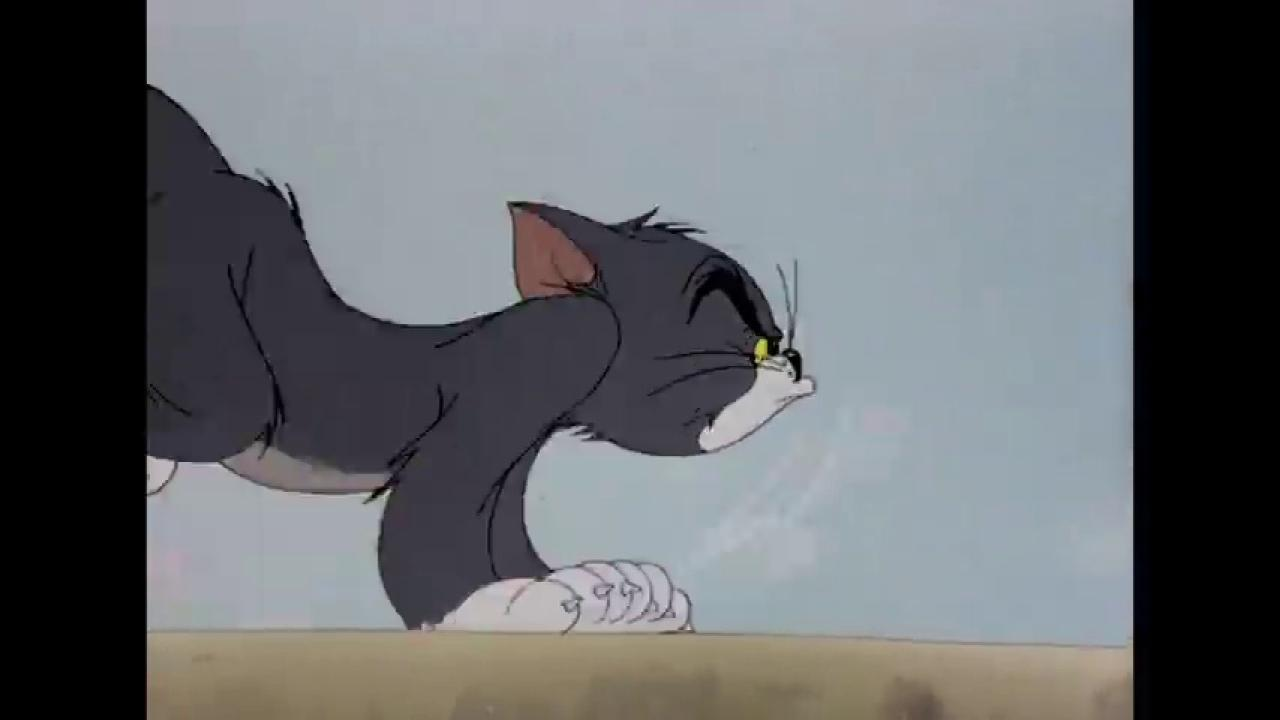Tom: (148, 72, 820, 634)
